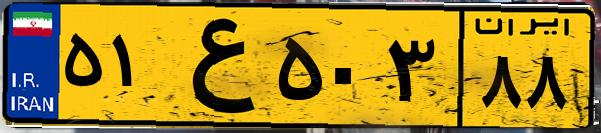0: (330, 28, 385, 110)
1: (110, 28, 158, 98)
3: (385, 28, 445, 110)
5: (270, 28, 330, 110), (57, 26, 110, 100)
8: (475, 38, 525, 113), (525, 38, 570, 115)
ع: (158, 12, 270, 120)
